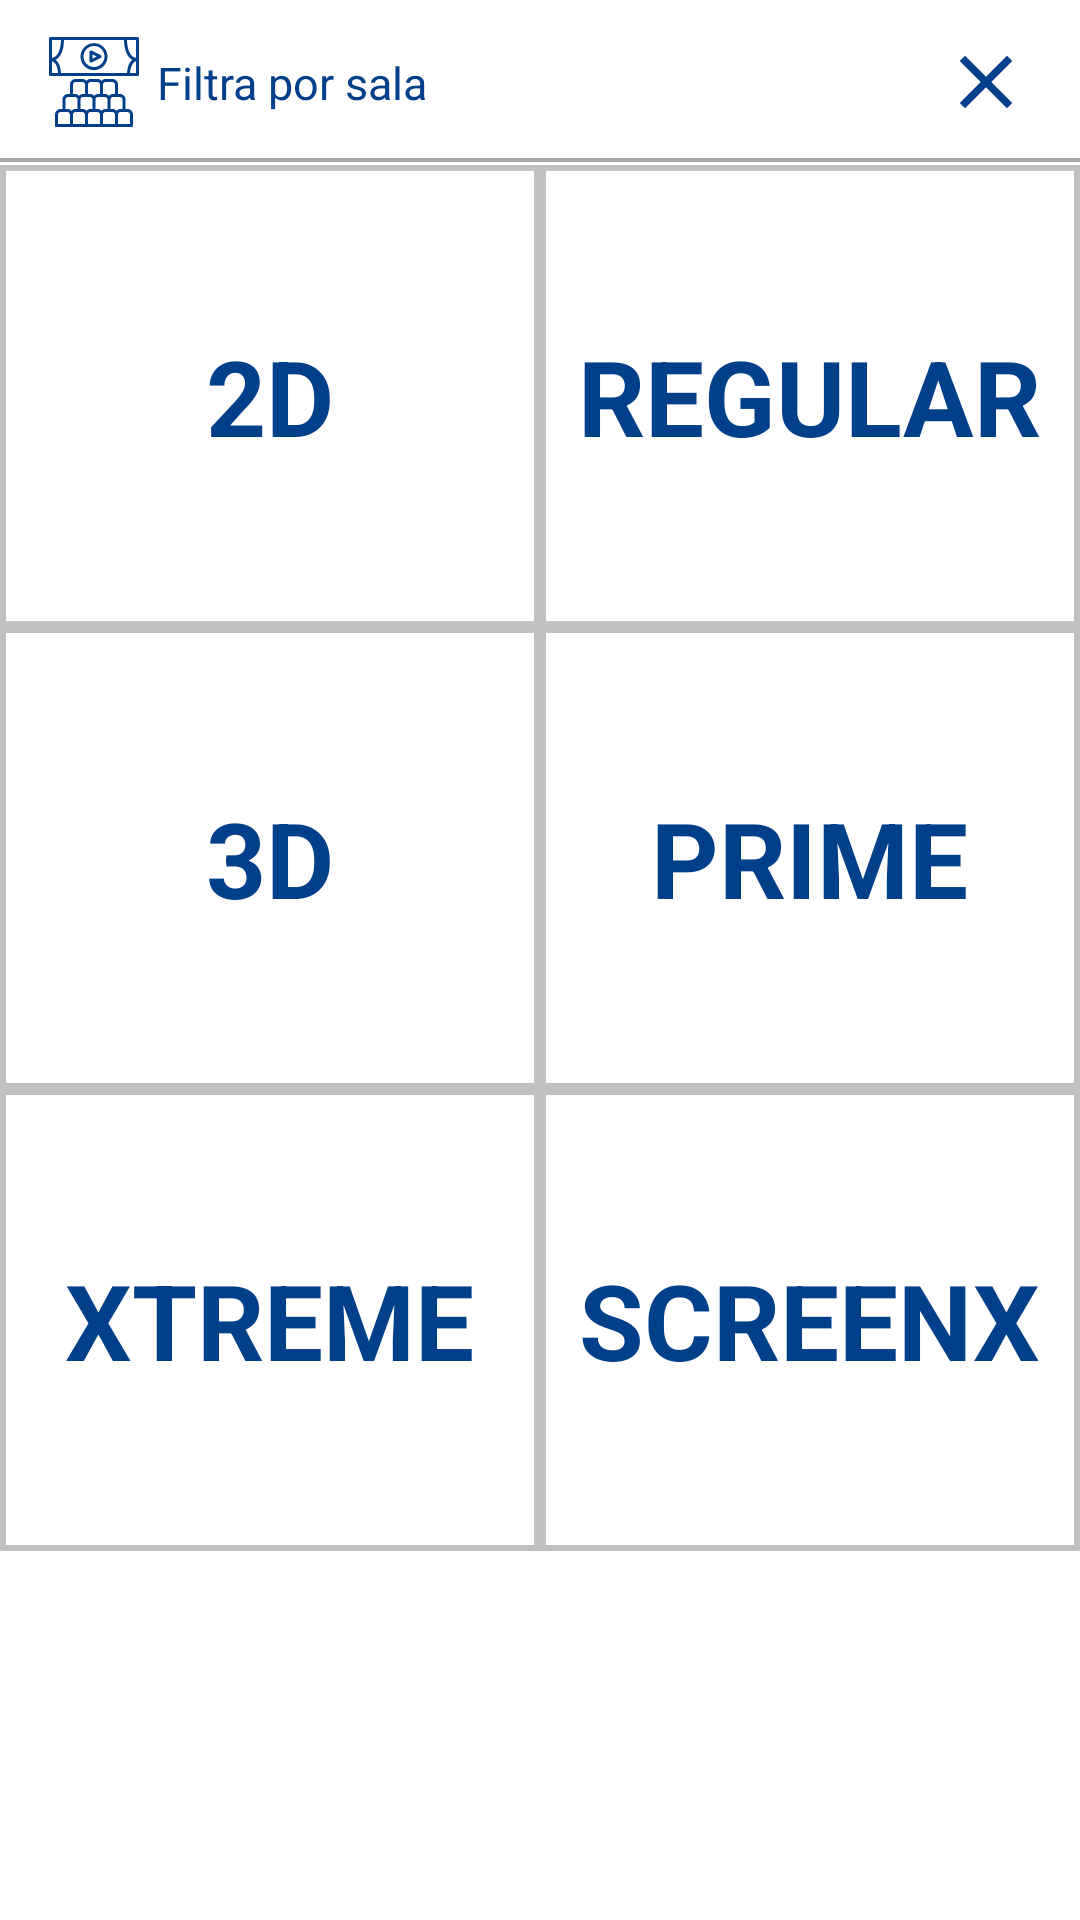

Point at icon controls on the screen. Image size 1080×1920, points as point (x, y).
cinema sala: point (94, 82)
close: point (986, 82)
